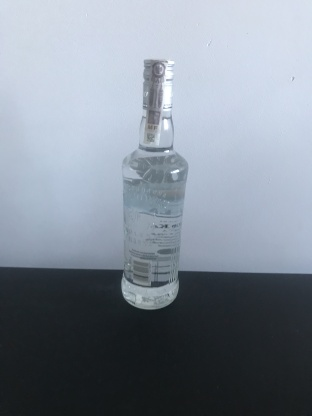nakretka: (140, 53, 177, 114)
